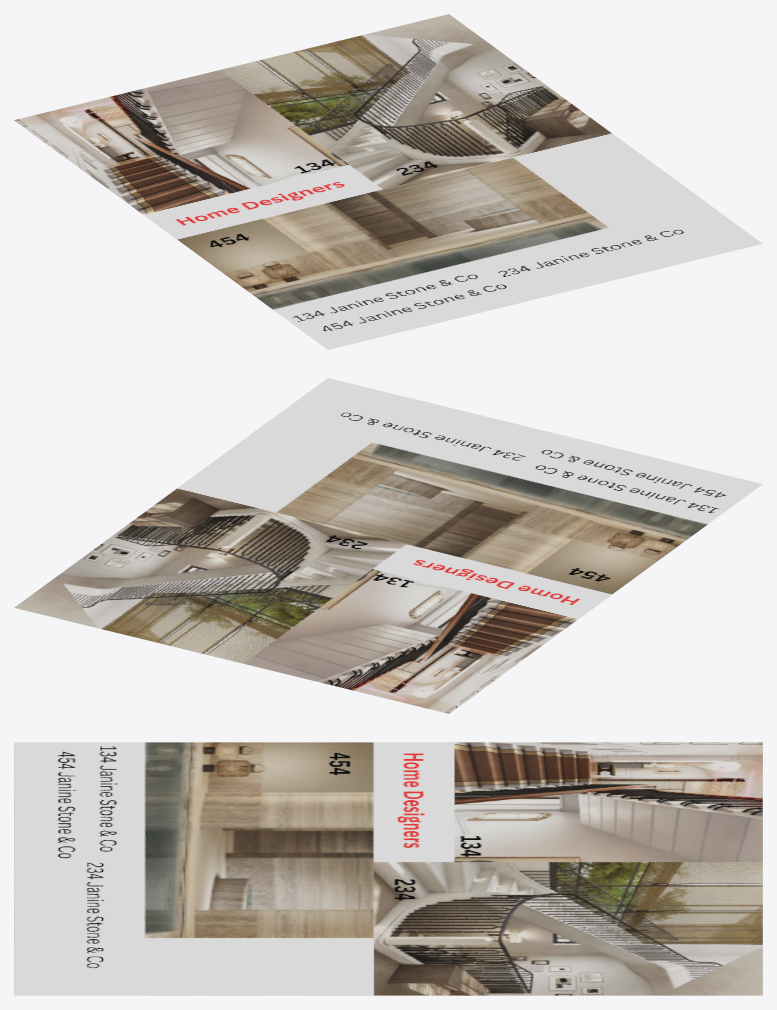
Rendered from avenue51pg14.glb.
3 views of the same model, one above another, from view 1: azimuth 30°, elevation 25°; view 2: azimuth 150°, elevation 25°; view 3: azimuth 270°, elevation 25° (orthographic). The views are drawn at different scales.
Parts seen in each view (by area): view 1: Plane; view 2: Plane; view 3: Plane.
Part boxes in pixels (x1,y1,x2,y2): Plane: (14,14,762,349); Plane: (14,378,762,713); Plane: (14,742,762,995).
Bounding box in the file's own units: 0.4 × 0 × 0.5.
1 material, 1 textured.
